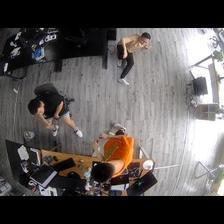fall: (116, 31, 153, 86)
normal: (26, 86, 82, 138), (91, 123, 137, 178)
